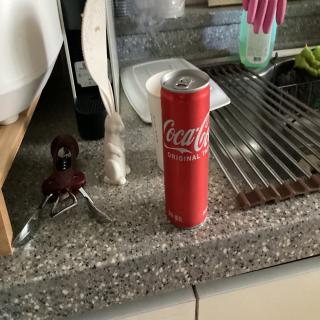cocacola: (159, 65, 213, 232)
